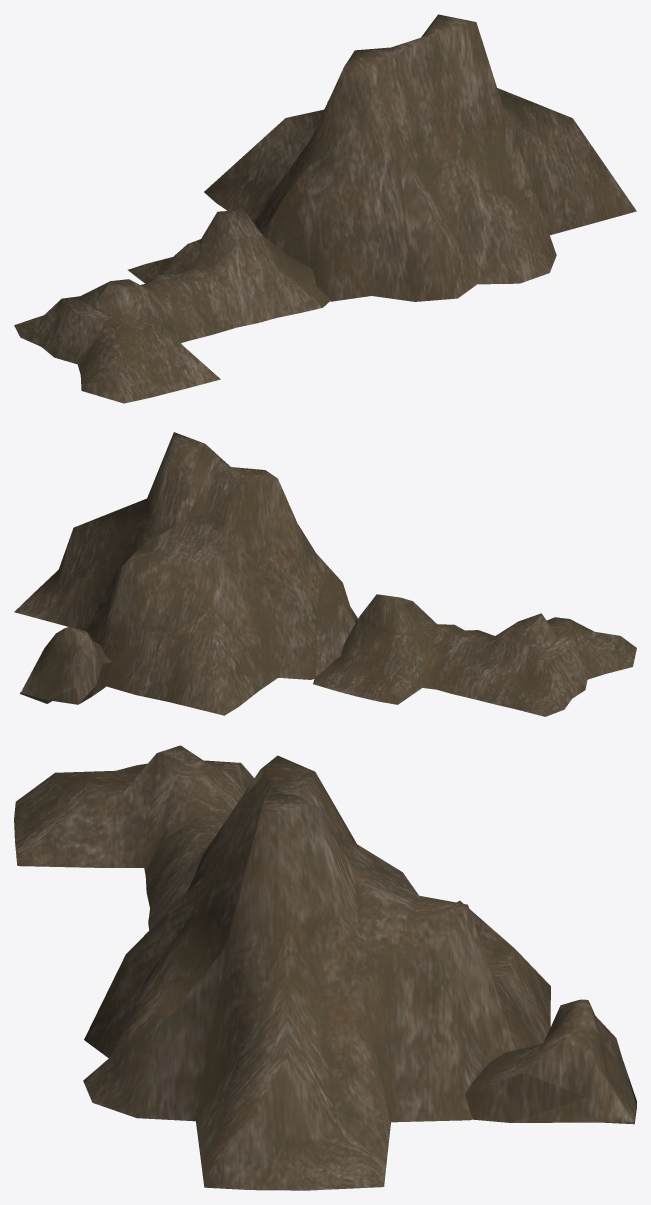
File: Duna.obj
The picture shows the model from 3 angles, top to bottom: view 1: azimuth 30°, elevation 25°; view 2: azimuth 150°, elevation 25°; view 3: azimuth 270°, elevation 25°; orthographic projection. The views are drawn at different scales.
Visible parts, largest first — view 1: duna; view 2: duna; view 3: duna.
Boxes of the visible parts, left/top/right/bottom form: duna: left=14, top=14, right=636, bottom=403; duna: left=14, top=432, right=636, bottom=716; duna: left=14, top=745, right=636, bottom=1190.
Size of the model in its own units: 172 by 58.57 by 113.
1 material, 1 textured.
